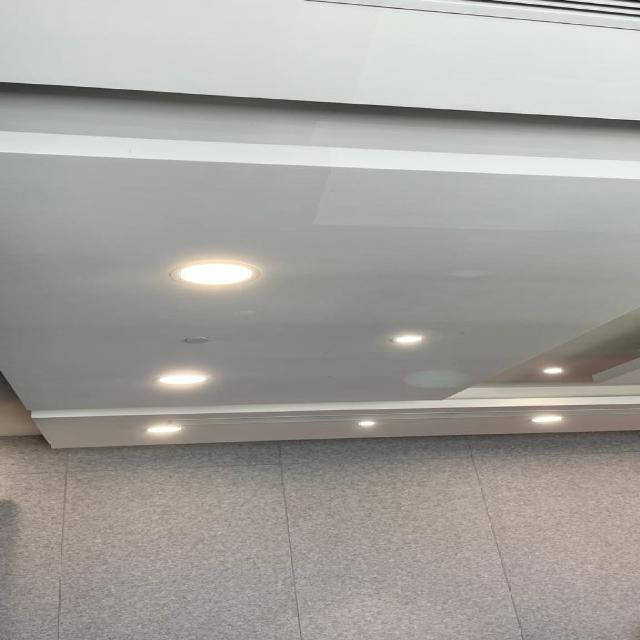Light-Opened: (162, 248, 270, 293), (147, 363, 216, 391), (379, 332, 438, 349), (525, 410, 570, 429), (348, 411, 384, 431), (142, 421, 190, 436), (538, 360, 573, 378)
